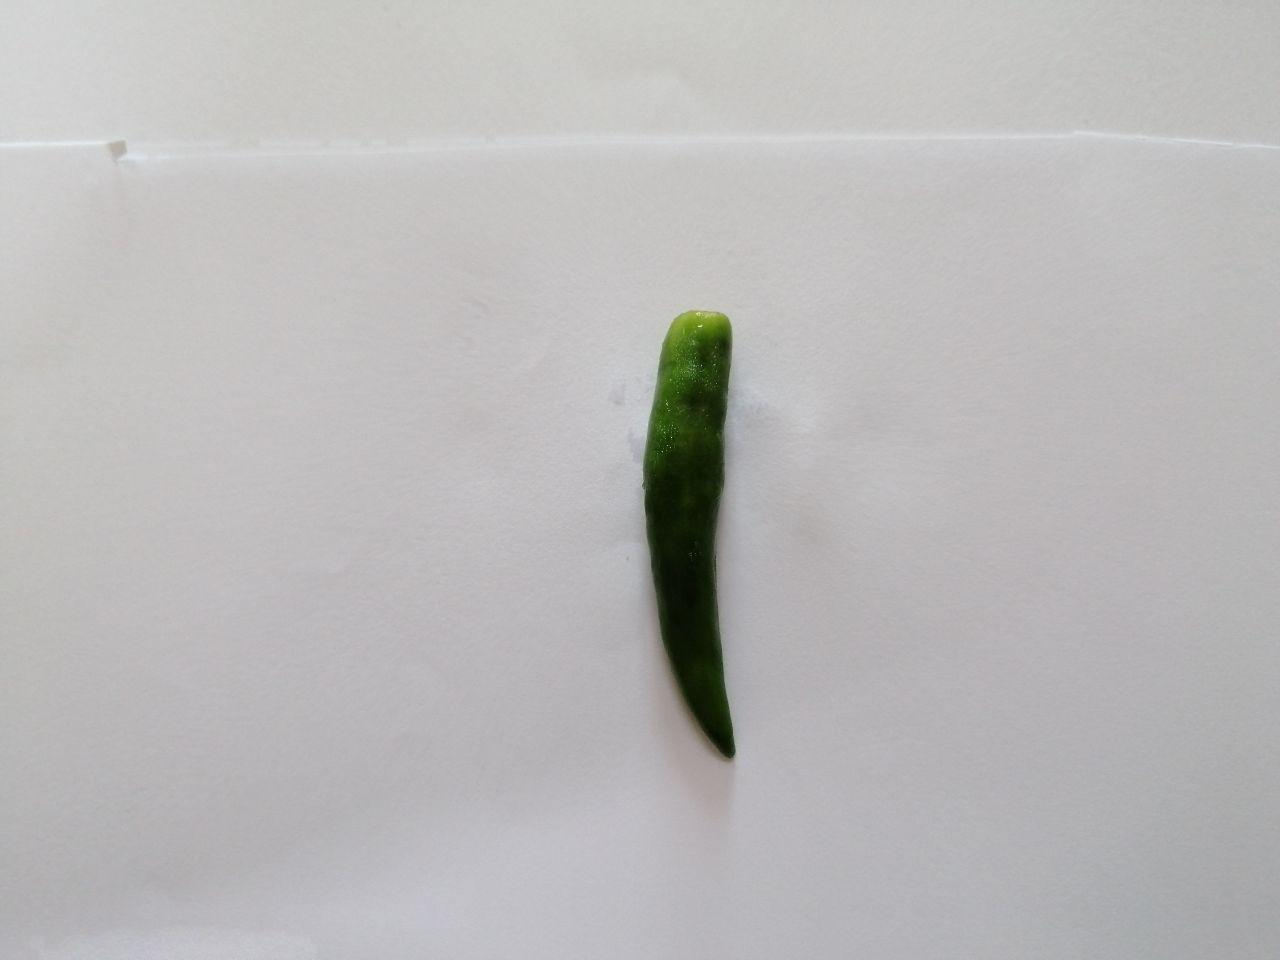lada hijau: (619, 293, 794, 781)
